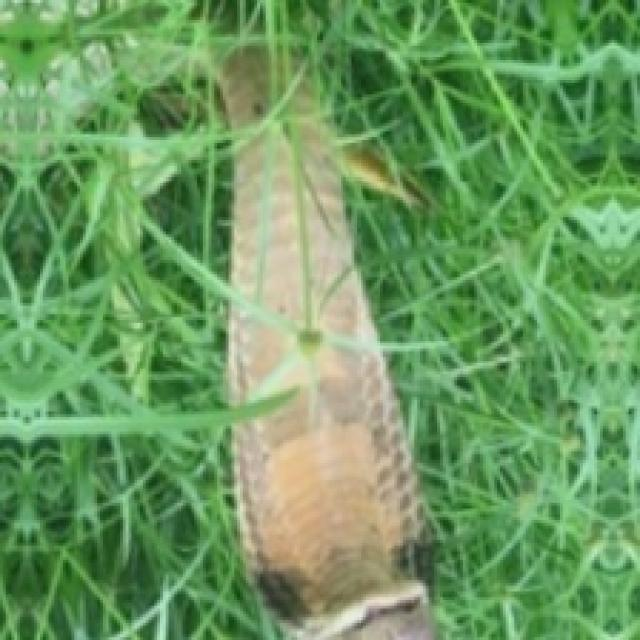king cobra: (220, 46, 431, 637)
